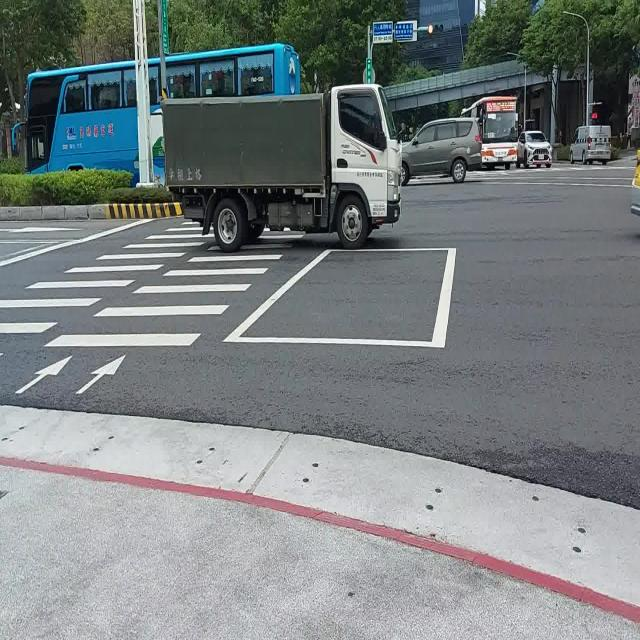bus: (20, 60, 139, 181), (168, 42, 300, 98), (462, 96, 518, 169)
car: (401, 118, 481, 187), (570, 124, 611, 164), (516, 129, 552, 169)
crosswalk: (0, 213, 287, 354)
trunk: (161, 84, 401, 251)
